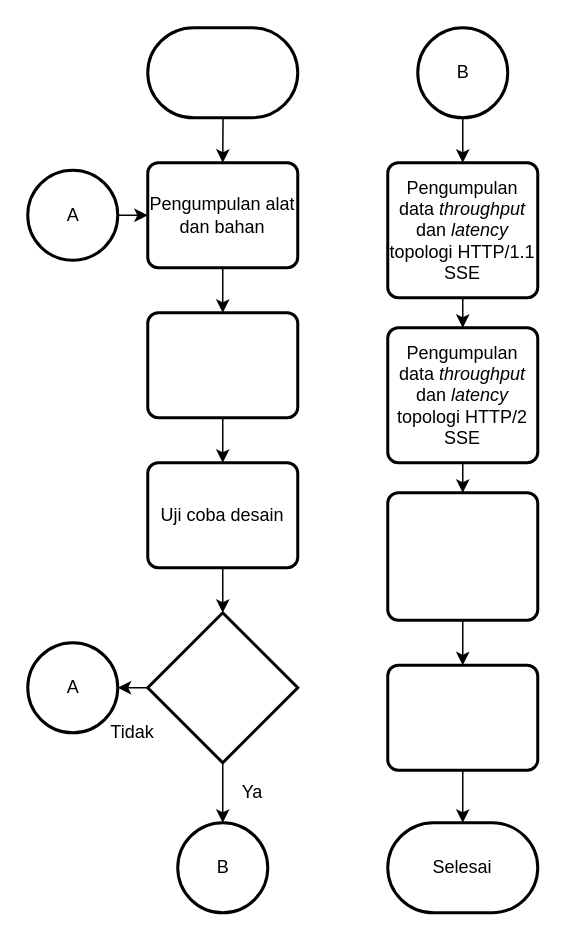
Image size: 564x939. Some labels were removed from this diagram. The centre of each missing label's shape, as x and y in pixels:
"Apakah desain berhasil ?" goes at point (222, 687).
"Membandingkan data" goes at point (462, 717).
"Mulai" goes at point (222, 72).
"Pengumpulan data throughput dan latency dari topologi websocket" goes at point (462, 555).
"Penyusunan desain smarthome untuk kedua metode" goes at point (222, 364).
